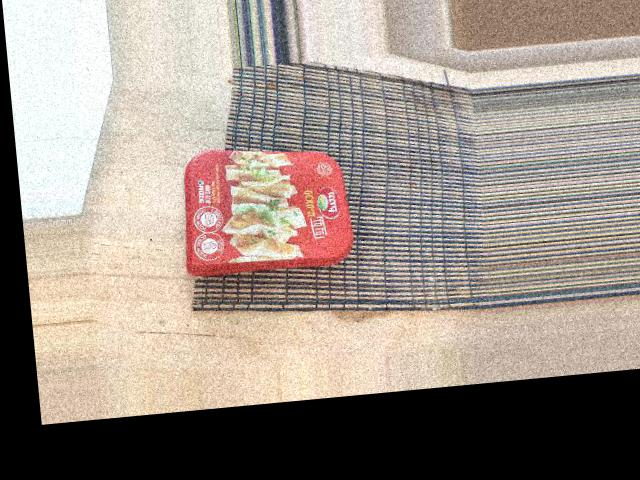cheese: (262, 37, 405, 236)
